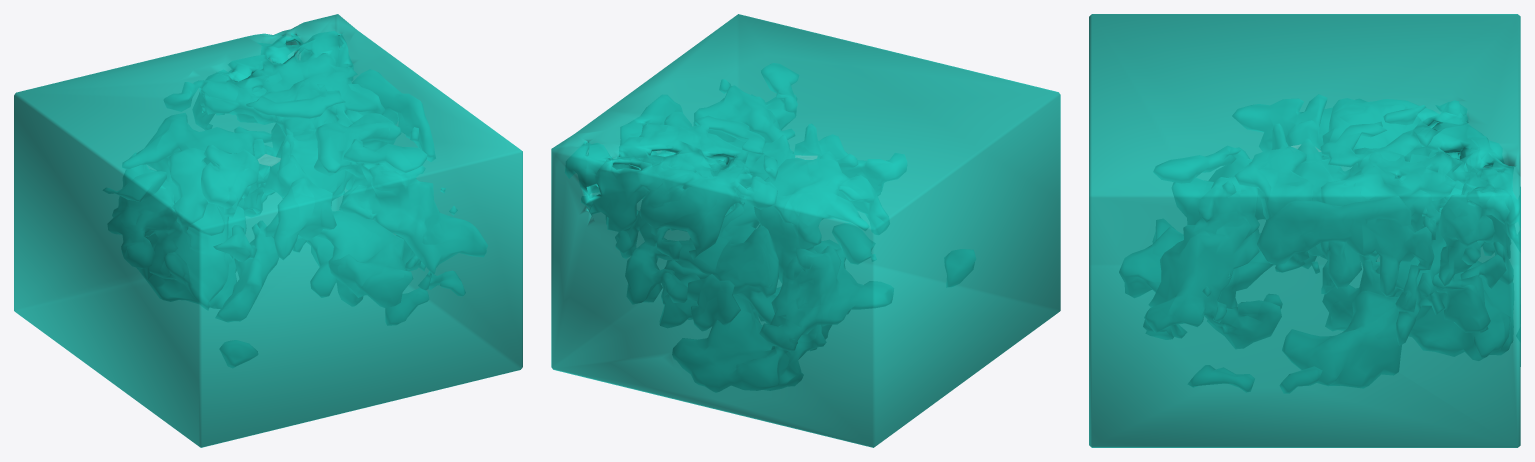
3 views of the same model, side by side, from view 1: azimuth 30°, elevation 25°; view 2: azimuth 150°, elevation 25°; view 3: azimuth 270°, elevation 25° (orthographic). The views are drawn at different scales.
Visible parts, largest first — view 1: Liquid_Domain; view 2: Liquid_Domain; view 3: Liquid_Domain.
Boxes of the visible parts, bbox=[...] form: Liquid_Domain: bbox=[14, 14, 522, 447]; Liquid_Domain: bbox=[551, 14, 1060, 447]; Liquid_Domain: bbox=[1089, 14, 1520, 447].
Bounding box in the file's own units: 391 × 254 × 391.
